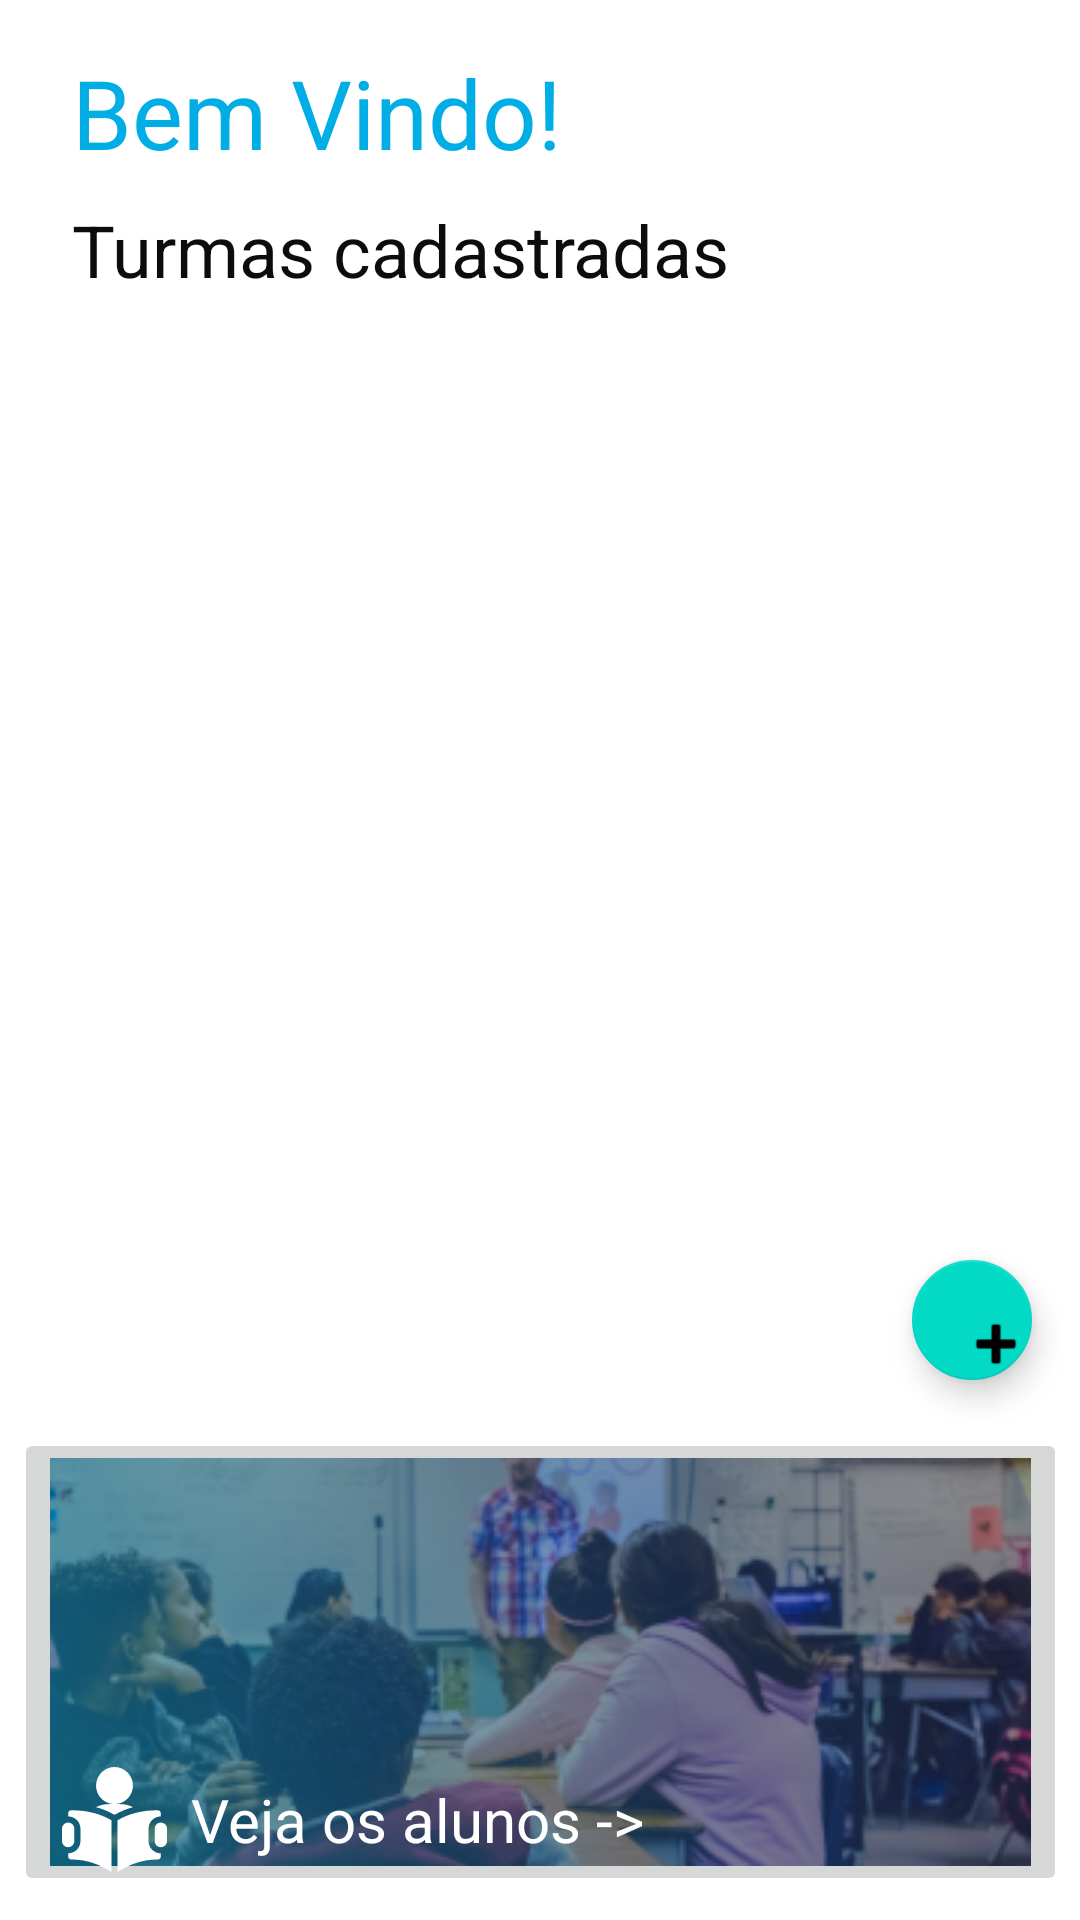

Named icons in this screenshot (1080px×1920px) and their bounding boxes, detection(x1, y1, x2, y2):
add: detection(912, 1260, 1032, 1380)
